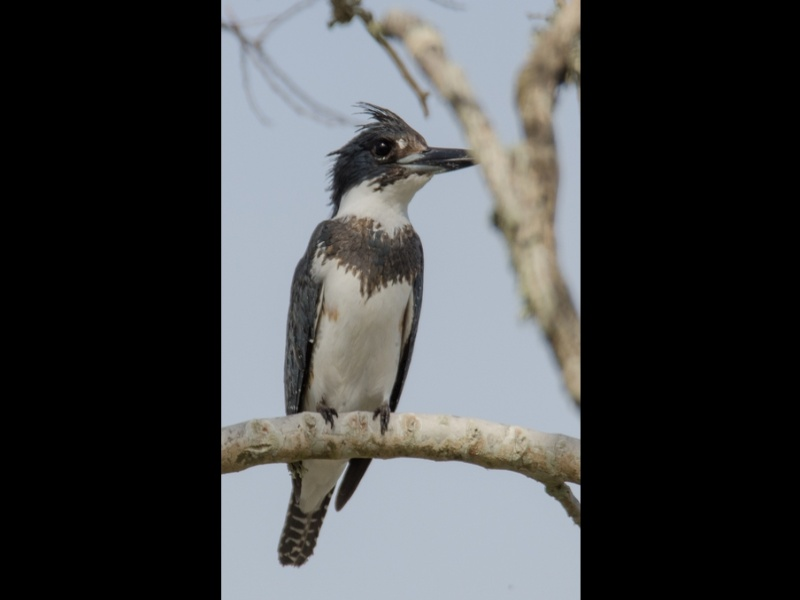kingfisher: (276, 99, 481, 570)
